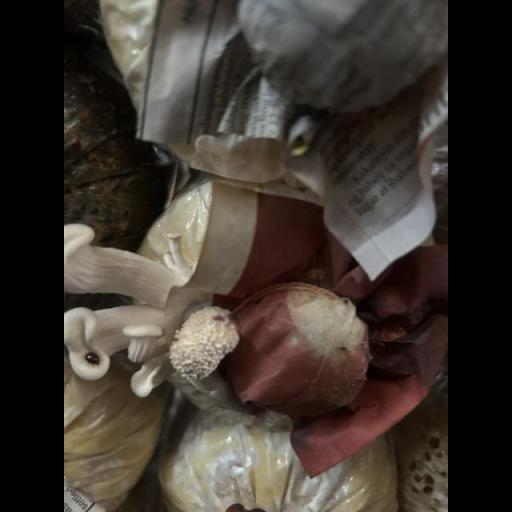White Oyster Mushroom: (65, 209, 243, 404)
